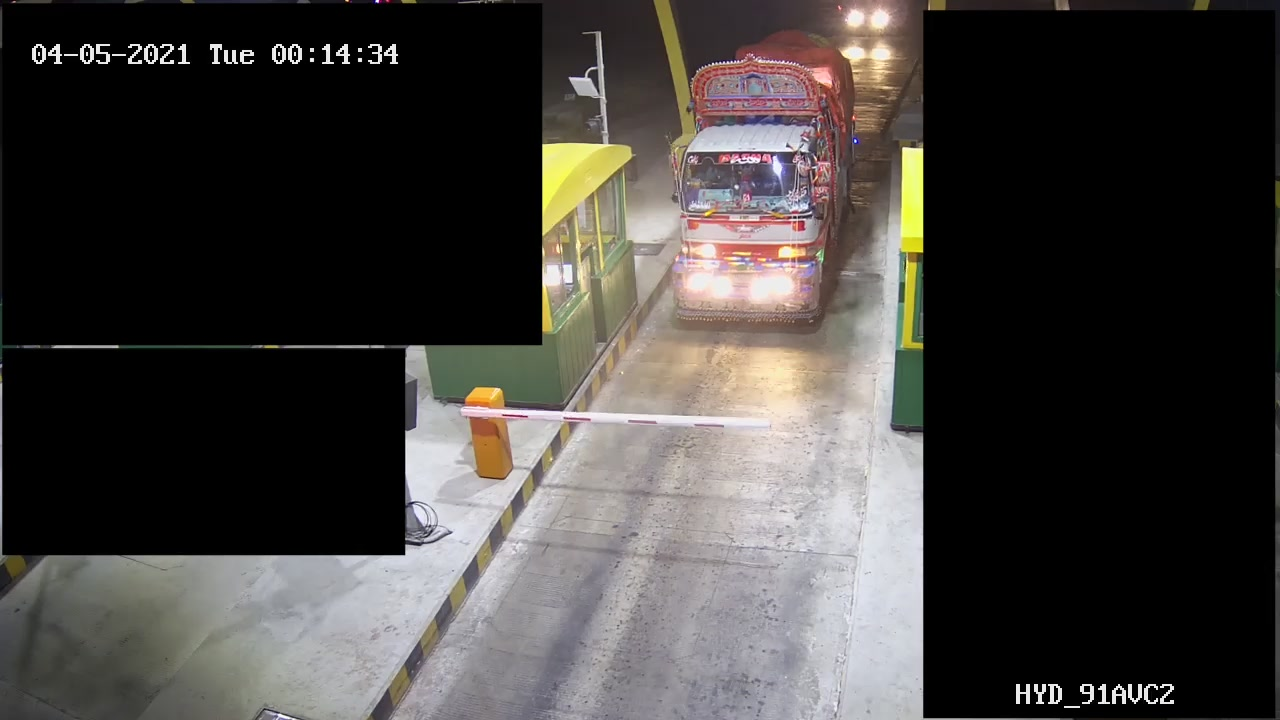F5: (658, 32, 866, 332)
